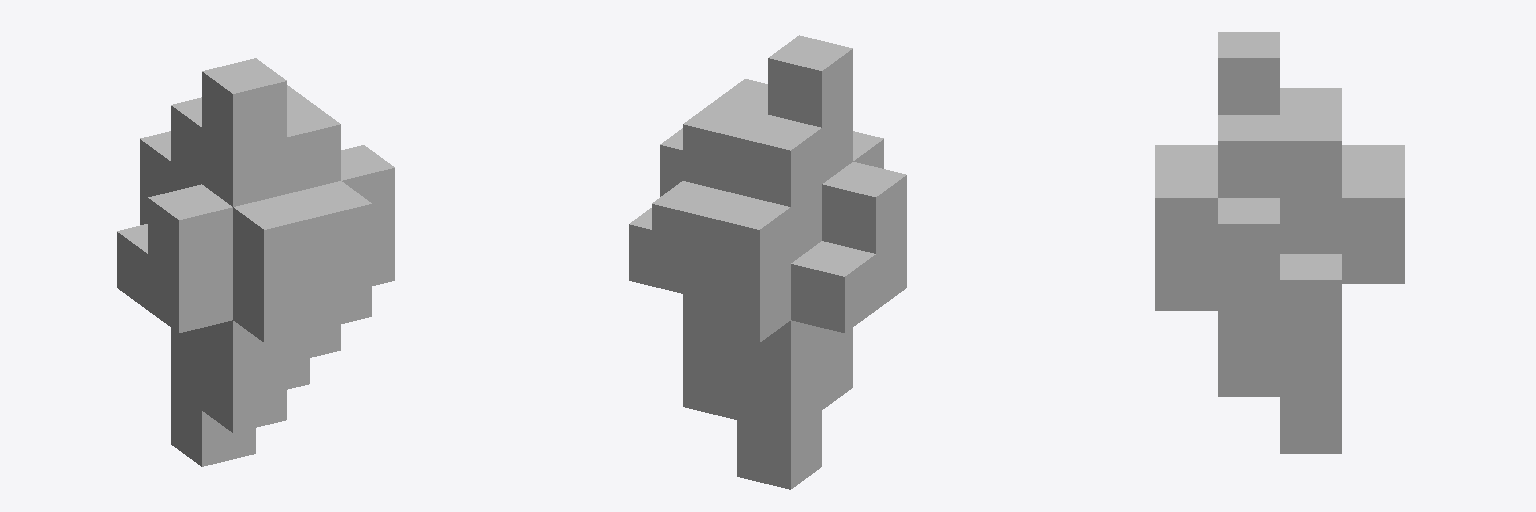
The model's file is Arkanblitzmagier Kristall.obj.
3 renders of one model, left to right at view 1: azimuth 30°, elevation 25°; view 2: azimuth 150°, elevation 25°; view 3: azimuth 270°, elevation 25°, orthographic.
Parts seen in each view (by area): view 1: Mage Tower ohne Turm; view 2: Mage Tower ohne Turm; view 3: Mage Tower ohne Turm.
Boxes of the visible parts, x1=… form: Mage Tower ohne Turm: x1=117, y1=58, x2=394, y2=466; Mage Tower ohne Turm: x1=629, y1=35, x2=906, y2=489; Mage Tower ohne Turm: x1=1155, y1=32, x2=1404, y2=453.
Size of the model in its own units: 4 by 7 by 4.